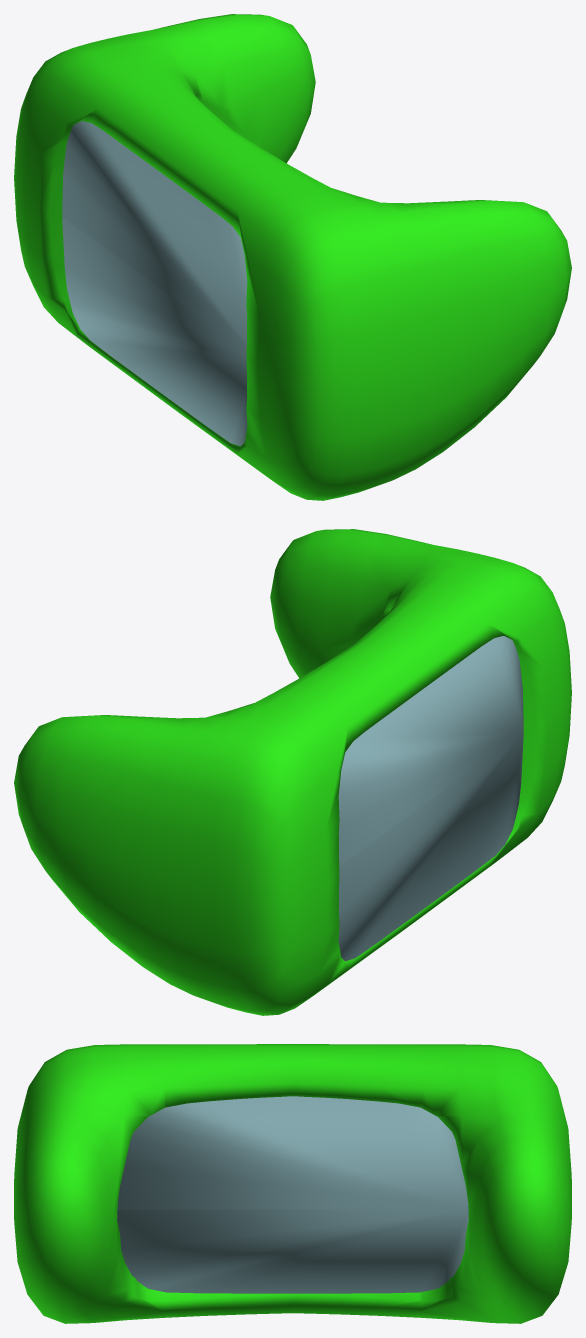
The model's file is GREEN_Glass_Smooth.fbx.
3 renders of one model, top to bottom at view 1: azimuth 30°, elevation 25°; view 2: azimuth 150°, elevation 25°; view 3: azimuth 270°, elevation 25°, orthographic. The views are drawn at different scales.
Parts seen in each view (by area): view 1: Glasses_Trans_1, Glasses_Trans_2; view 2: Glasses_Trans_1, Glasses_Trans_2; view 3: Glasses_Trans_1, Glasses_Trans_2.
Part boxes in pixels (left/top/right/bottom): Glasses_Trans_1: left=14, top=14, right=571, bottom=500; Glasses_Trans_2: left=62, top=121, right=247, bottom=446; Glasses_Trans_1: left=14, top=529, right=571, bottom=1015; Glasses_Trans_2: left=338, top=636, right=523, bottom=961; Glasses_Trans_1: left=14, top=1044, right=571, bottom=1323; Glasses_Trans_2: left=117, top=1096, right=468, bottom=1293.
Size of the model in its own units: 64.43 by 60 by 118.
